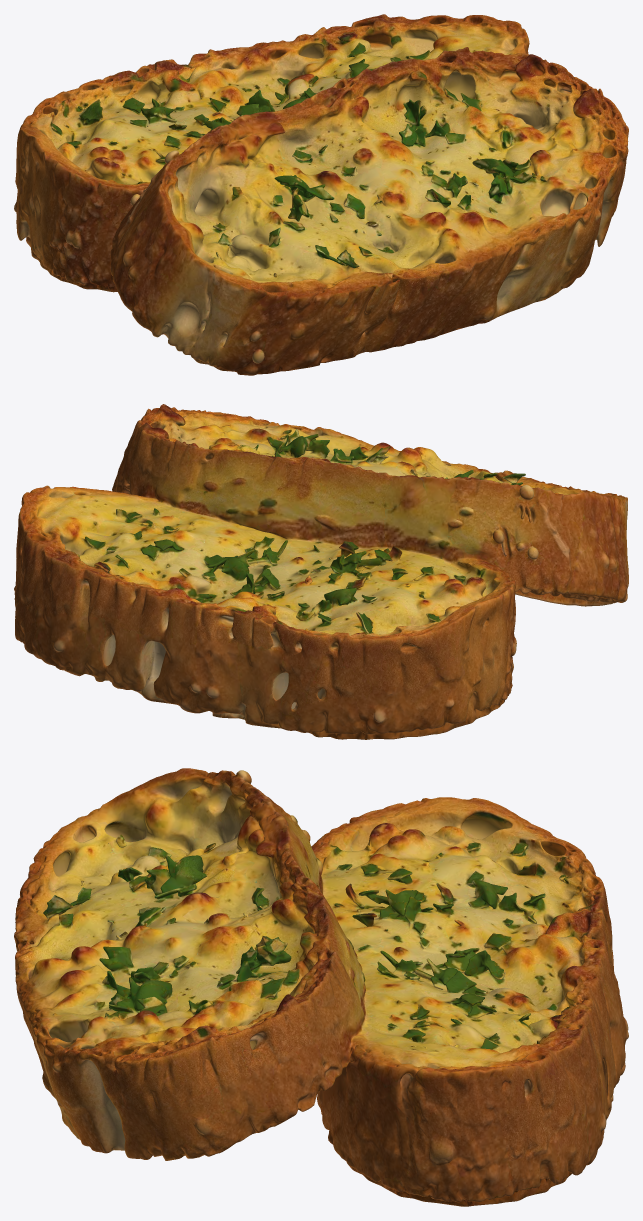
The picture shows the model from 3 angles, top to bottom: view 1: azimuth 30°, elevation 25°; view 2: azimuth 150°, elevation 25°; view 3: azimuth 270°, elevation 25°; orthographic projection. The views are drawn at different scales.
Bounding box in the file's own units: 1.9 × 0.6087 × 1.71.
Materials: 1 (1 with a texture image).
